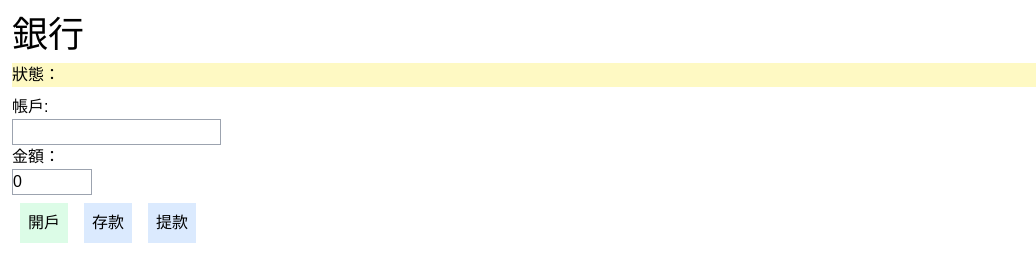
執行開戶 › 輸入帳戶名稱，開戶完成，狀態欄位顯示開戶完成
The image size is (1036, 260).
Type "小明" into the field with test id "input_account" at (116, 132), box left=12, top=119, right=221, bottom=145
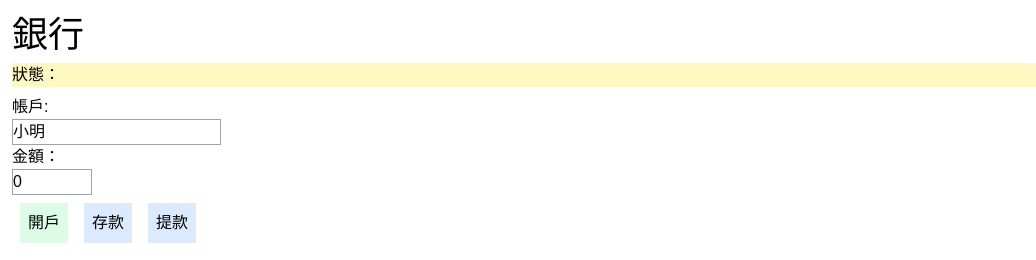
Click the button with test id "button_open-account" at (44, 223), box left=20, top=203, right=68, bottom=243
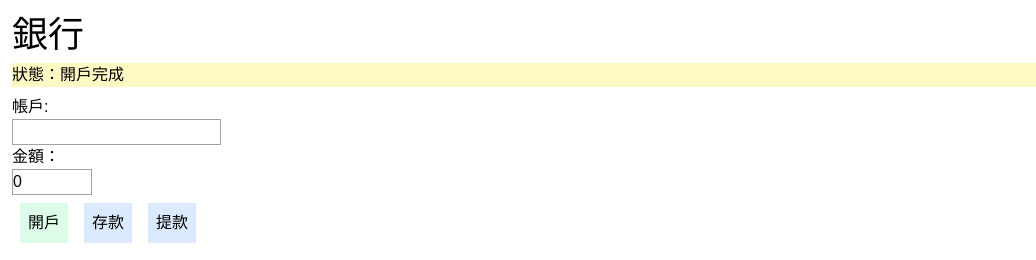
Expected: the text with test id "status" reads "開戶完成", left=60, top=66, right=124, bottom=83
